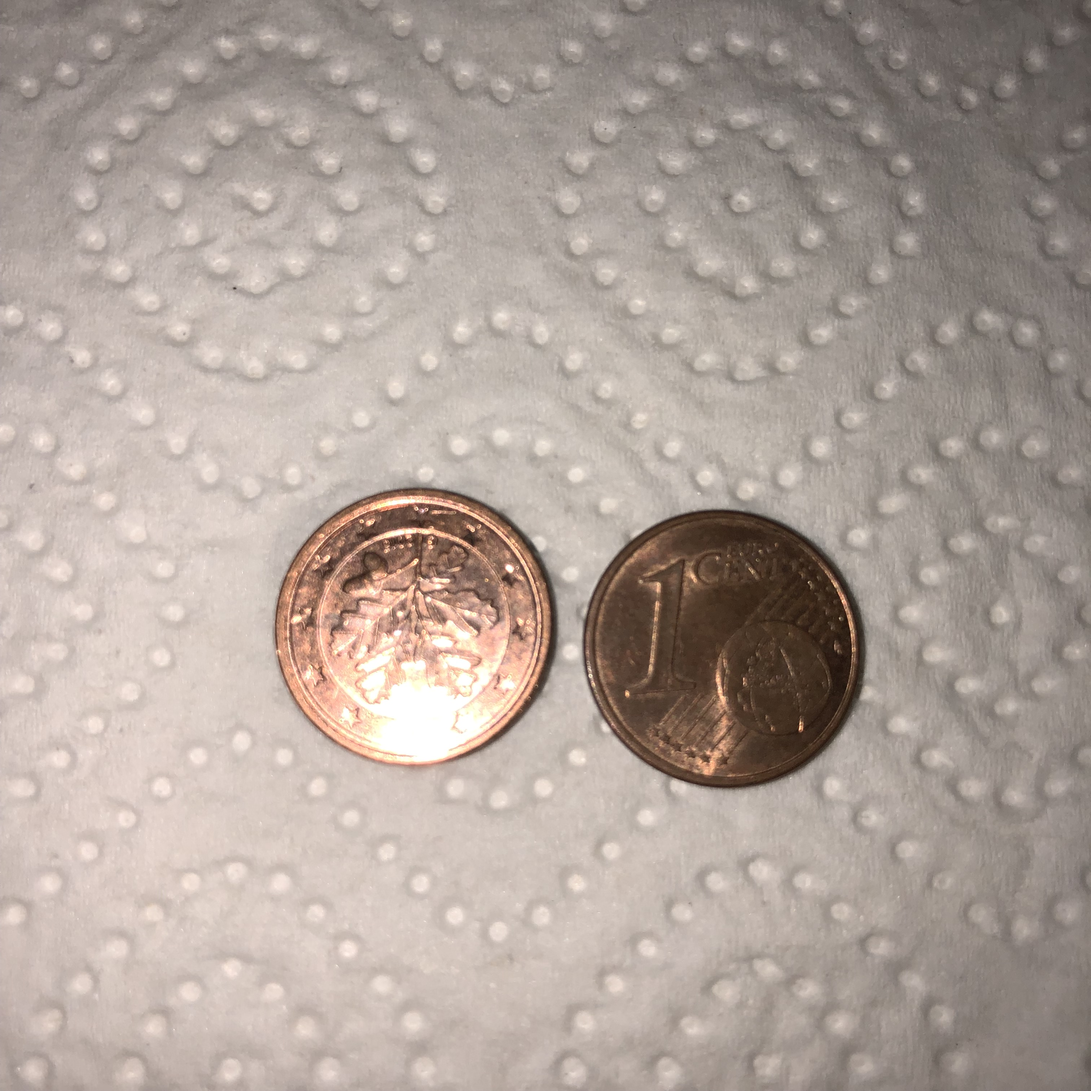1 cent: (581, 508, 860, 791), (280, 484, 558, 767)
